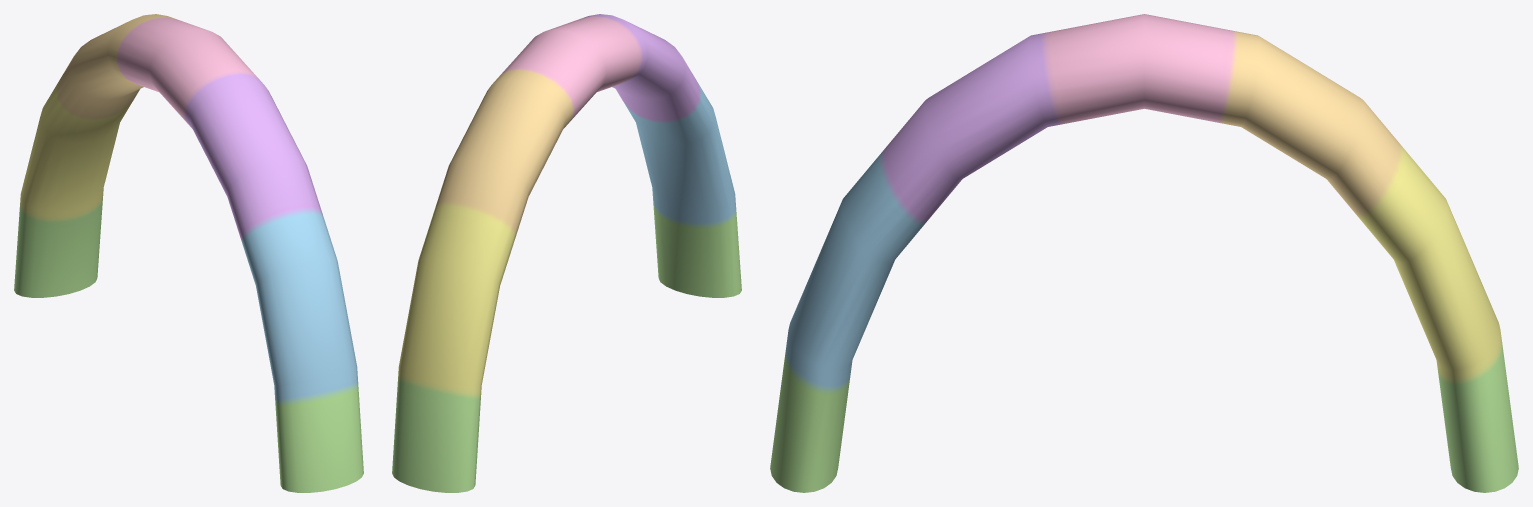
The model's file is wicket.obj.
3 renders of one model, left to right at view 1: azimuth 30°, elevation 25°; view 2: azimuth 150°, elevation 25°; view 3: azimuth 270°, elevation 25°, orthographic. The views are drawn at different scales.
Parts seen in each view (by area): view 1: pTorus1; view 2: pTorus1; view 3: pTorus1.
Boxes of the visible parts, left/top/right/bottom form: pTorus1: left=14, top=14, right=363, bottom=492; pTorus1: left=392, top=14, right=741, bottom=492; pTorus1: left=770, top=14, right=1518, bottom=492.
Bounding box in the file's own units: 0.7266 × 3.08 × 4.67.
